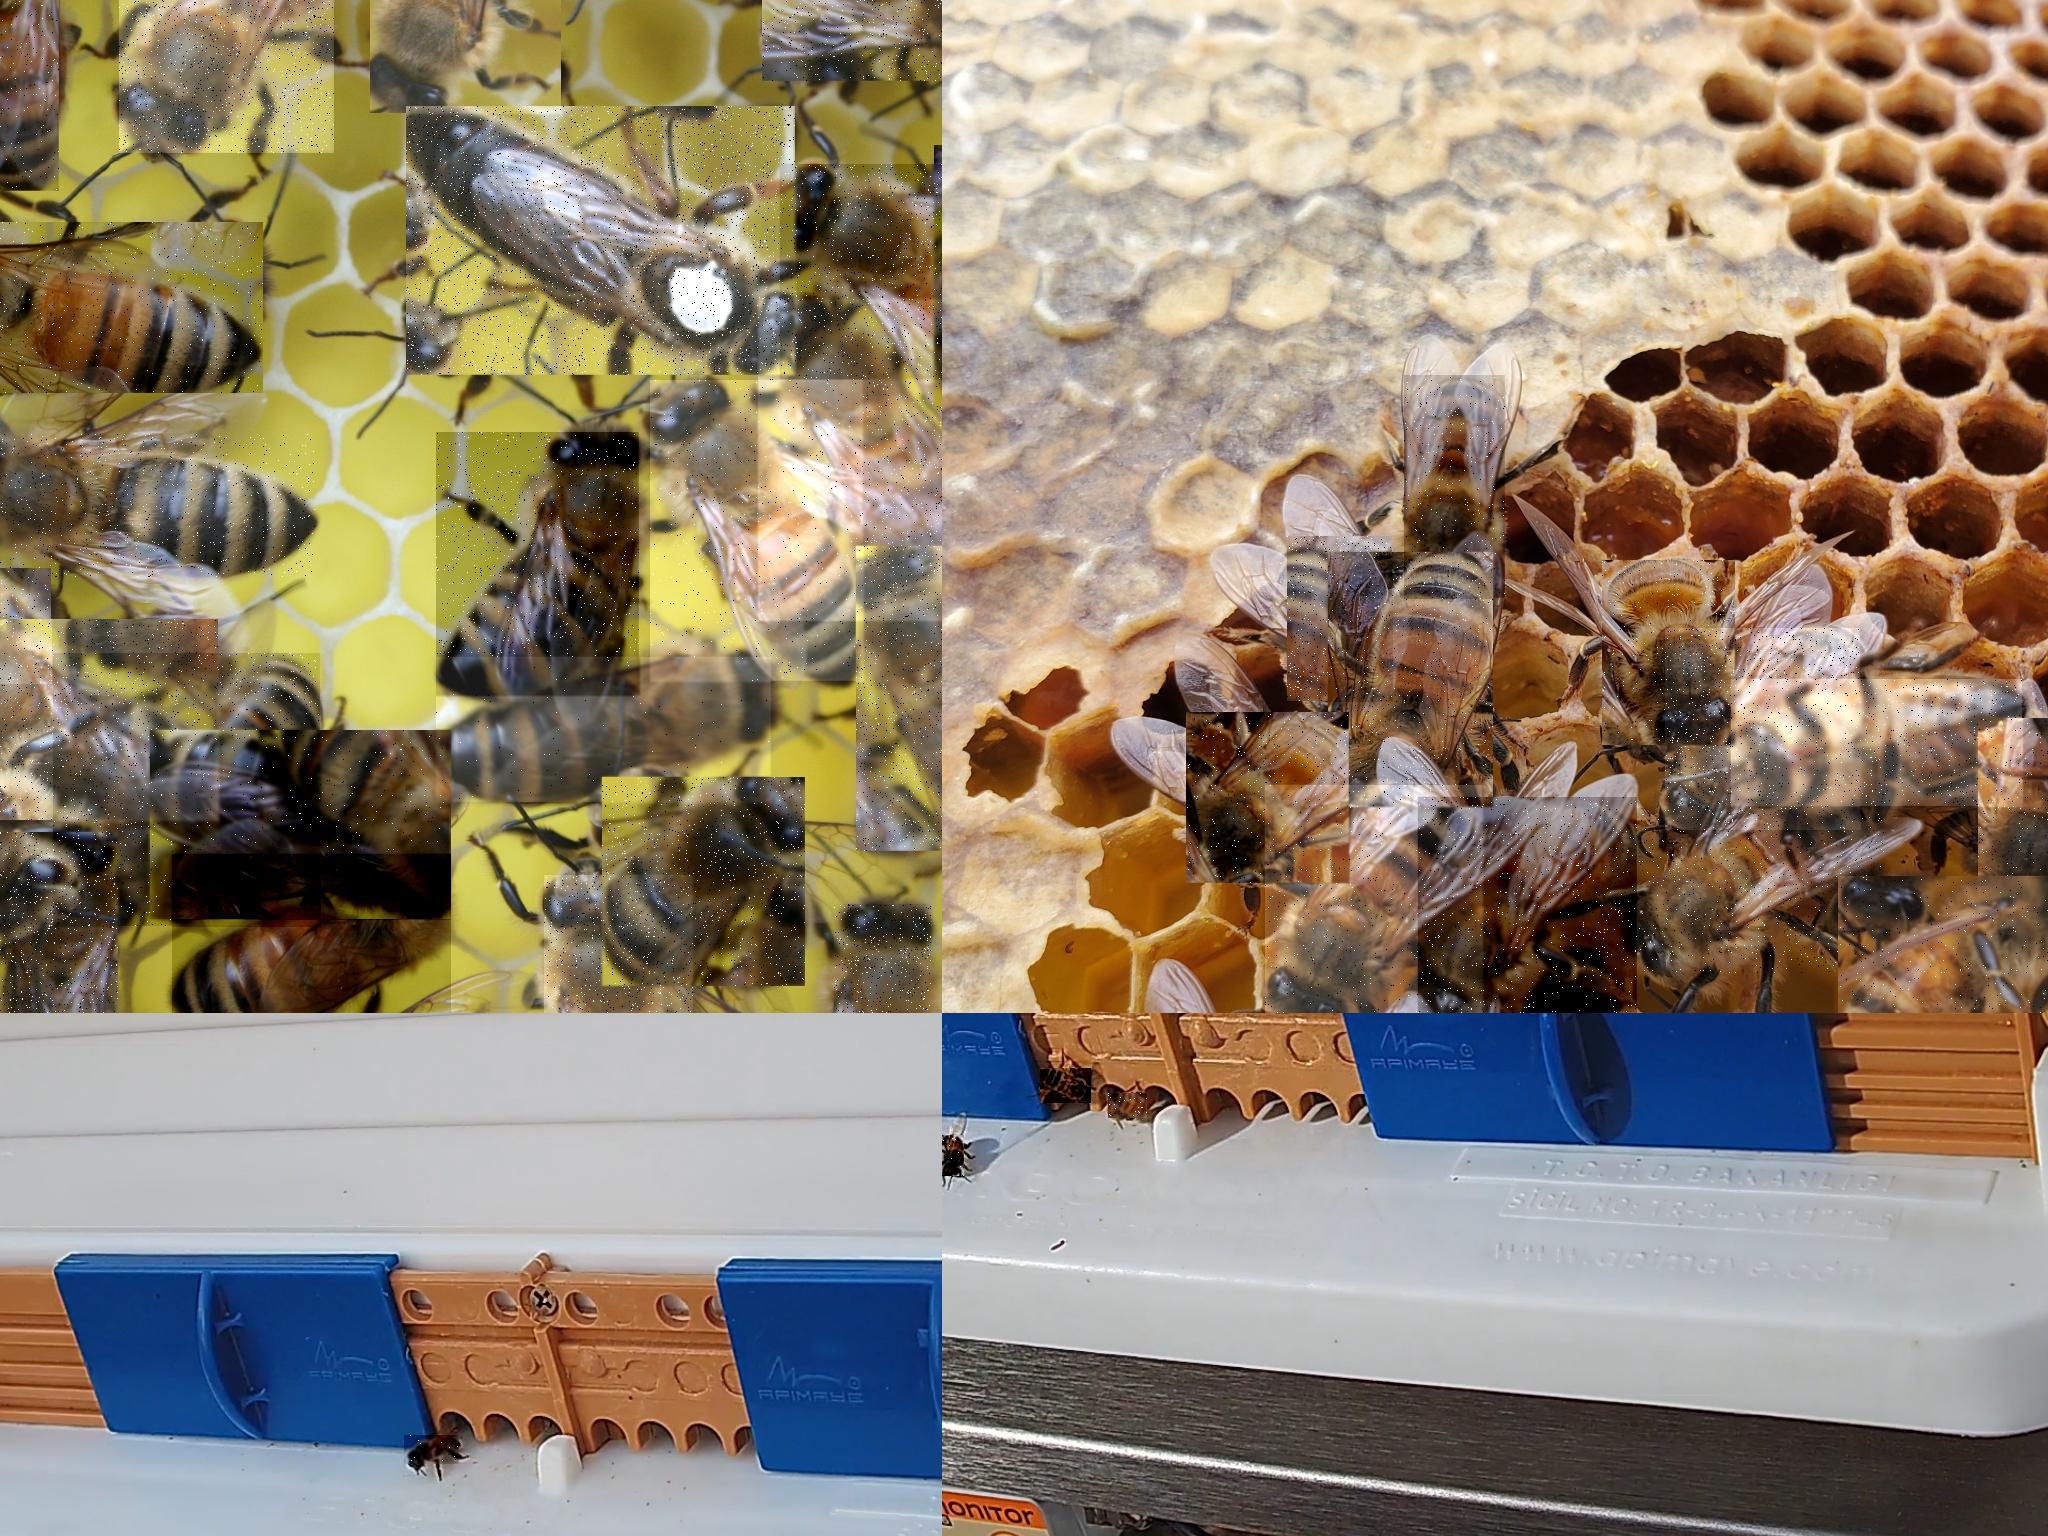bee: (53, 653, 321, 927), (650, 380, 864, 682), (758, 299, 941, 622), (150, 730, 452, 920), (436, 432, 640, 696), (1265, 785, 1484, 1012), (436, 657, 772, 803), (1417, 797, 1639, 1012), (0, 433, 317, 579), (0, 221, 264, 395), (0, 619, 220, 822), (172, 853, 452, 1012), (602, 777, 806, 987), (1328, 552, 1494, 808), (1630, 814, 1886, 974), (1665, 628, 1861, 830), (1731, 679, 2023, 807), (779, 164, 941, 380), (119, 0, 336, 155), (1838, 876, 2047, 1012), (1186, 712, 1350, 884), (856, 545, 941, 853), (1602, 560, 1736, 746), (1404, 375, 1506, 599), (369, 0, 563, 114), (0, 832, 120, 1012), (544, 875, 695, 1012), (1287, 536, 1393, 702), (762, 0, 941, 83), (1977, 718, 2047, 929), (0, 0, 61, 193), (834, 903, 933, 1012), (1040, 1068, 1092, 1104), (404, 1435, 460, 1465), (1108, 1093, 1148, 1119), (942, 1135, 966, 1178)
queen: (406, 106, 796, 376)
